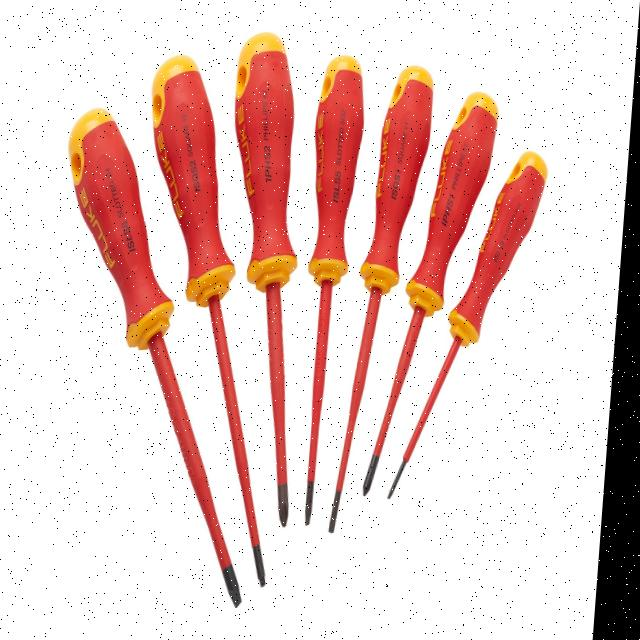Screwdriver: (71, 109, 250, 606), (155, 56, 274, 587), (397, 152, 550, 496), (370, 92, 500, 494), (337, 66, 435, 532), (237, 34, 301, 527), (313, 56, 366, 525)
